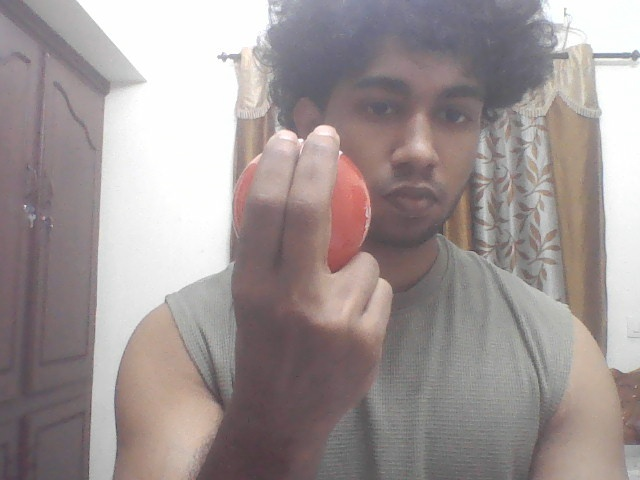cricket_ball: (225, 136, 375, 269)
